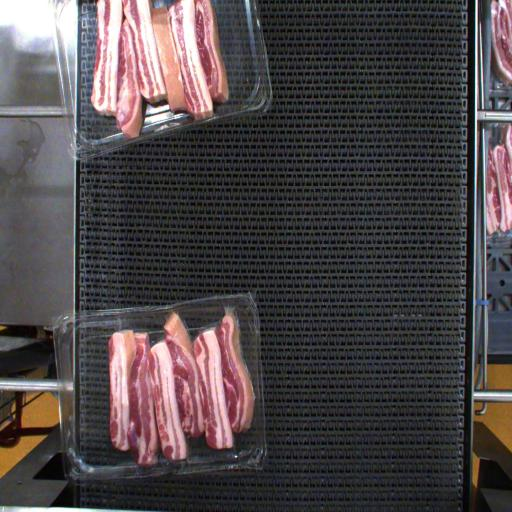unsealed: (100, 310, 252, 368)
